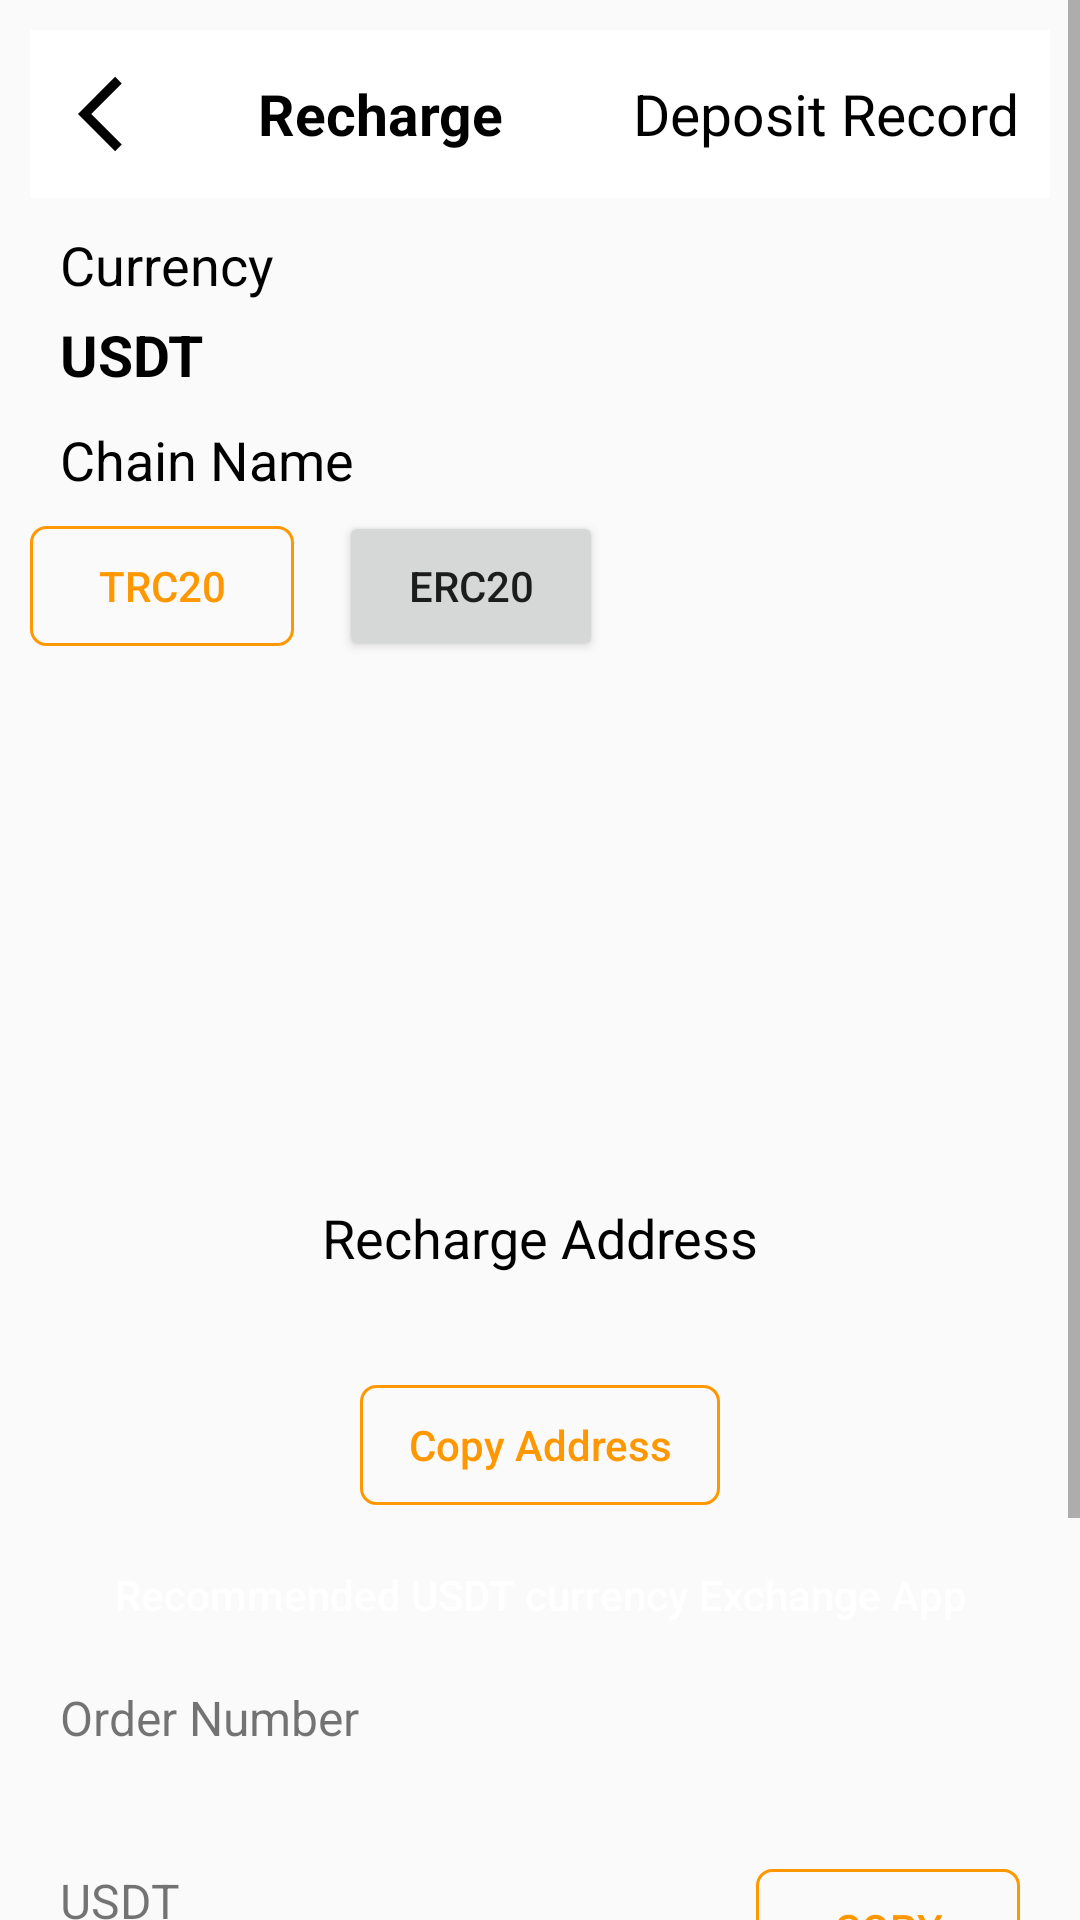

Icons on this 1080px x 1920px Android screen, each with its box as (x1=x1, y1=y1, x2=x2, y2=y2):
back: (x1=78, y1=77, x2=122, y2=151)
